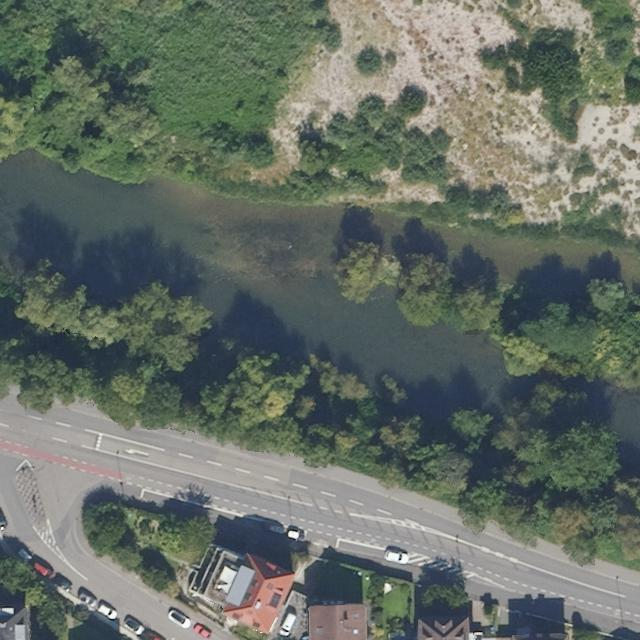PV: (268, 591, 283, 610)
